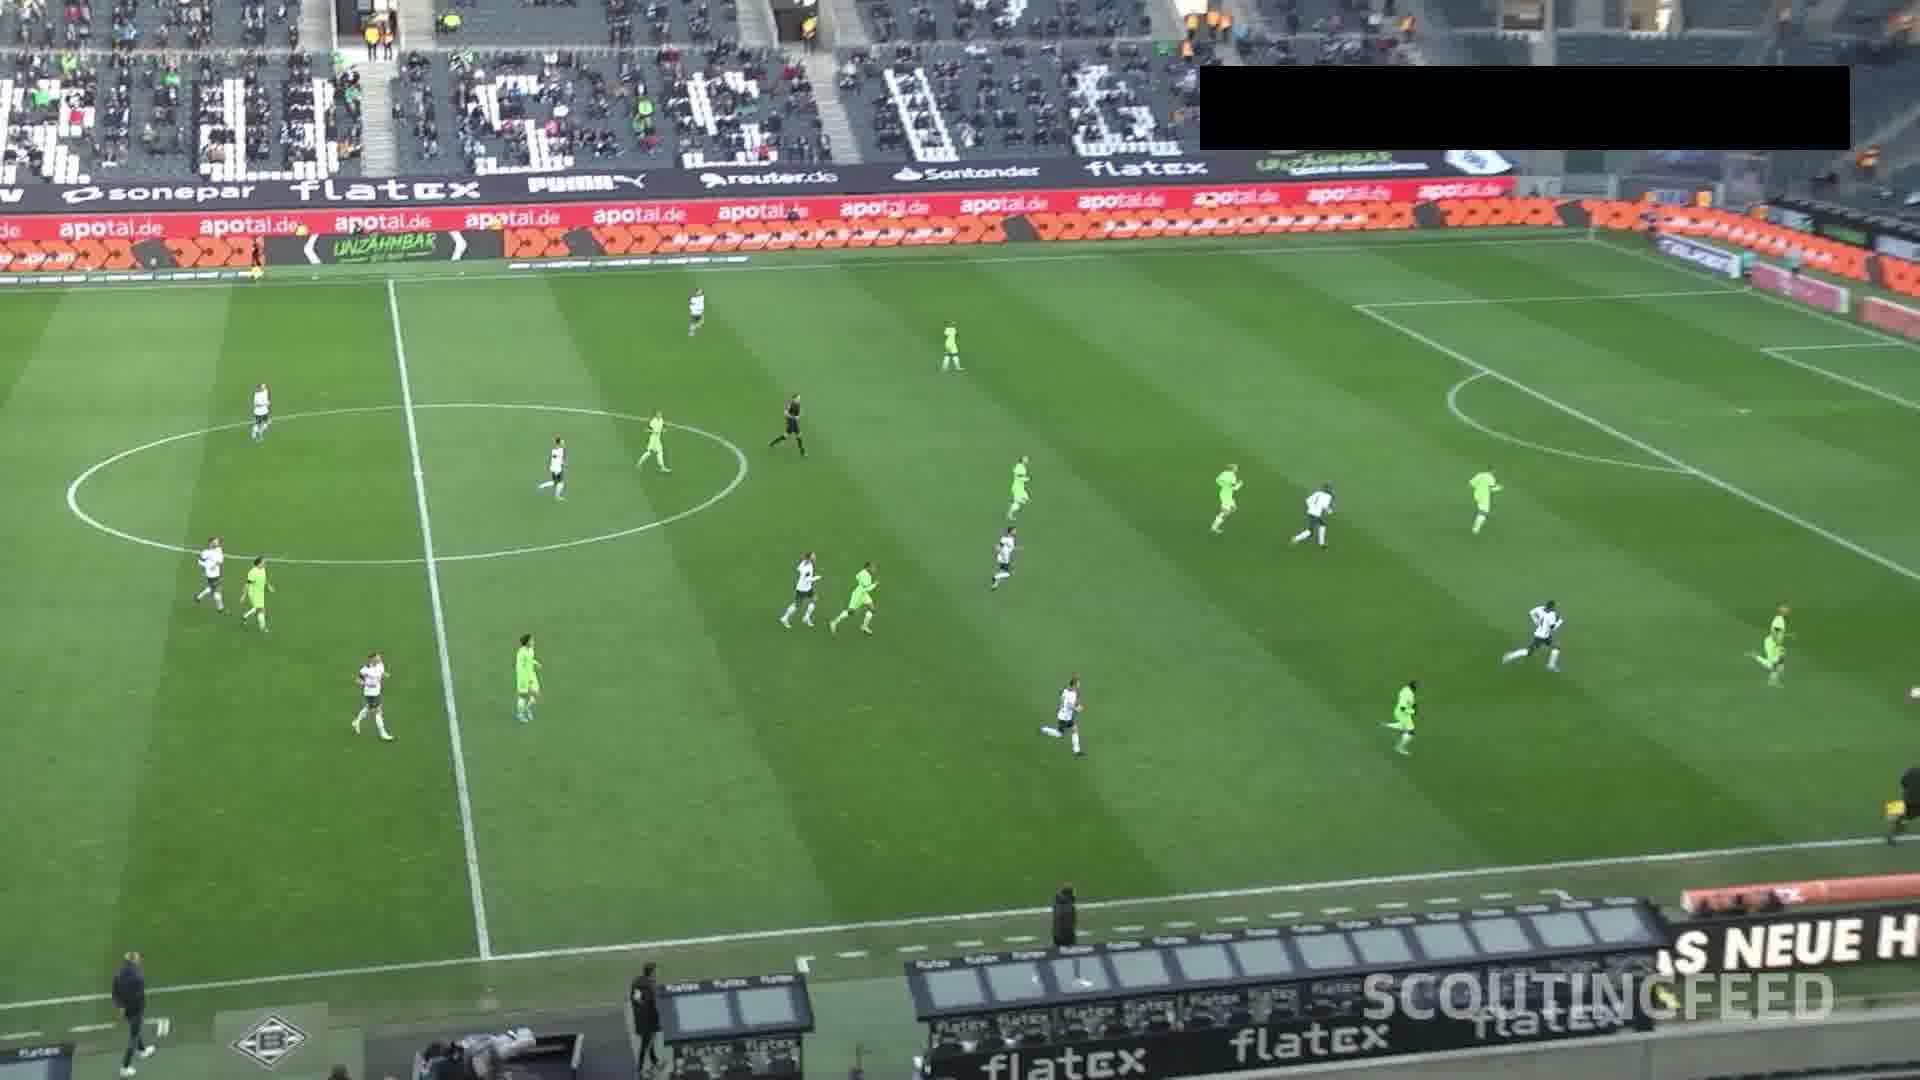football: (1909, 686, 1920, 703)
